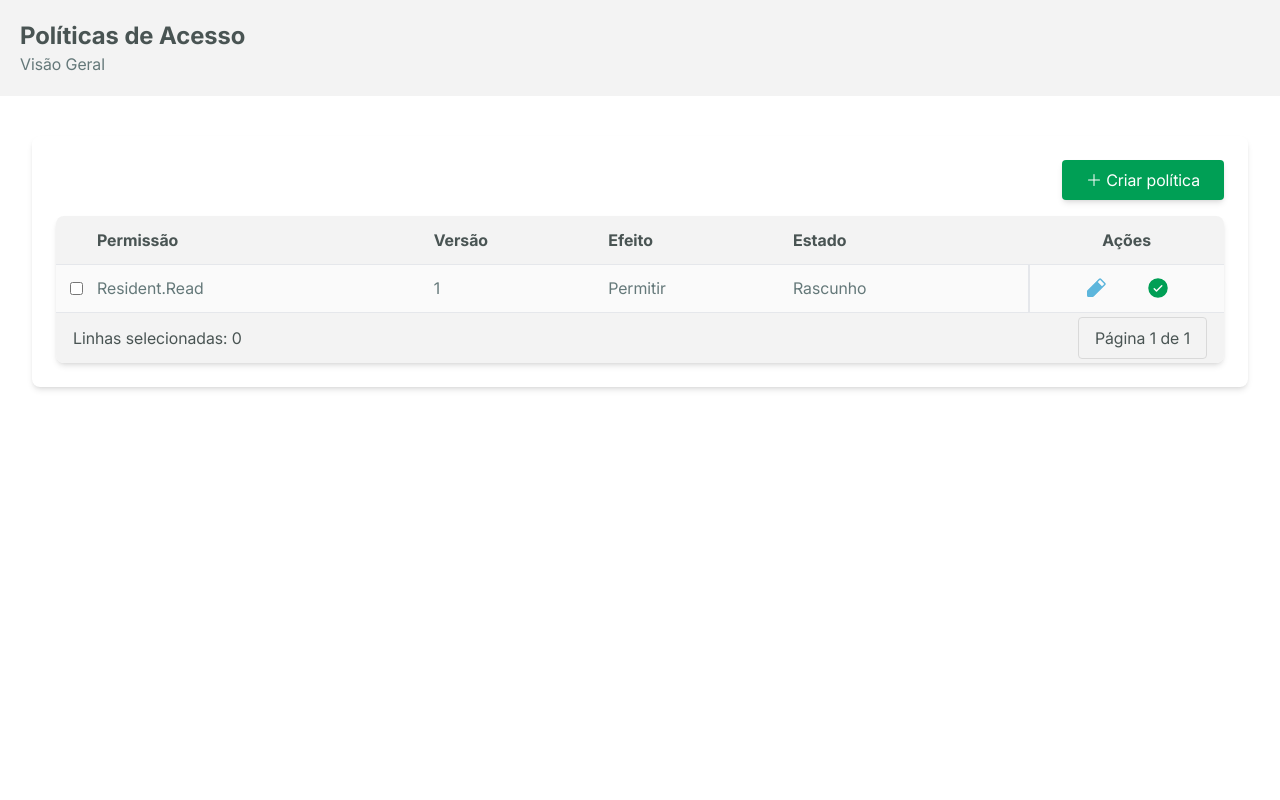
páginas CRUD assistenciais › activates a drafted access policy
Expected: the text "Resident.Read" is shown, [96,264,433,312]
Click the button titled "Ativar" at (1158,288), box [1146,276,1170,300]
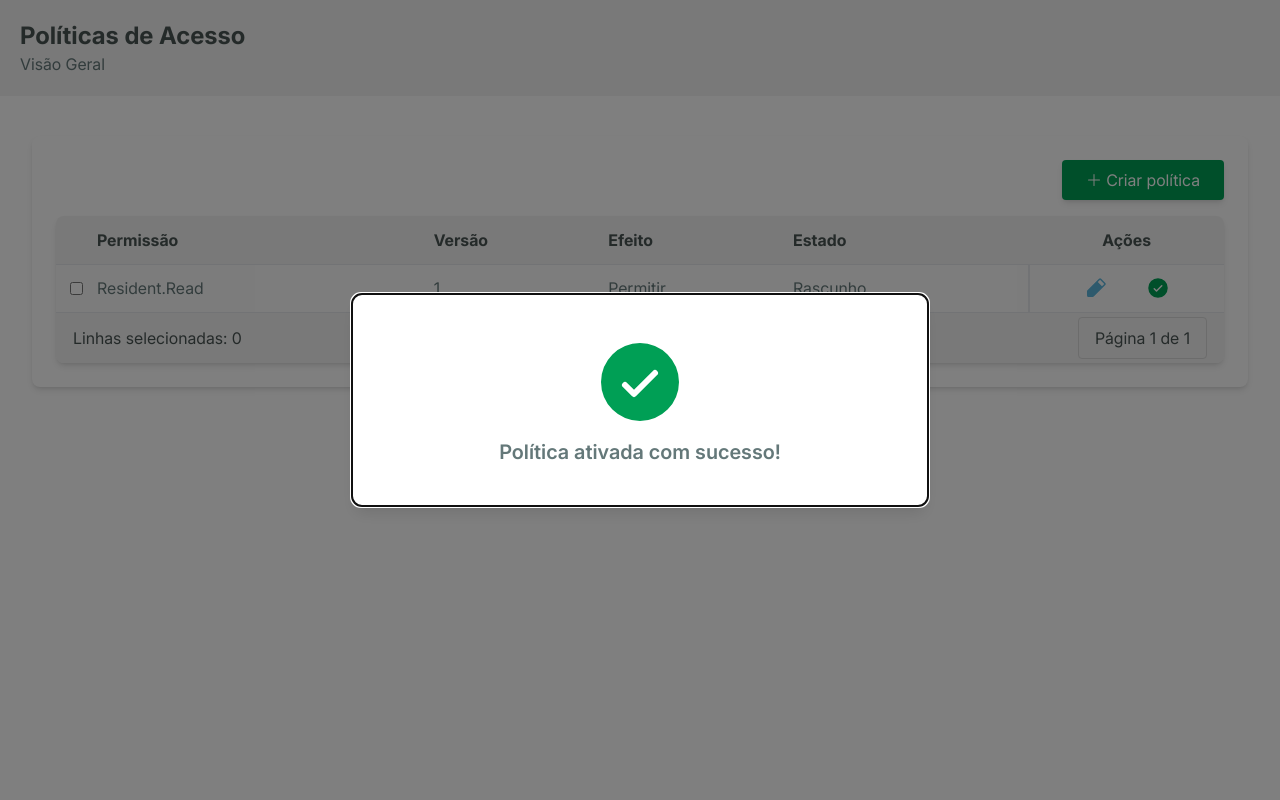
Now the text "Política ativada com sucesso!" is shown, box [499,438,781,466]
